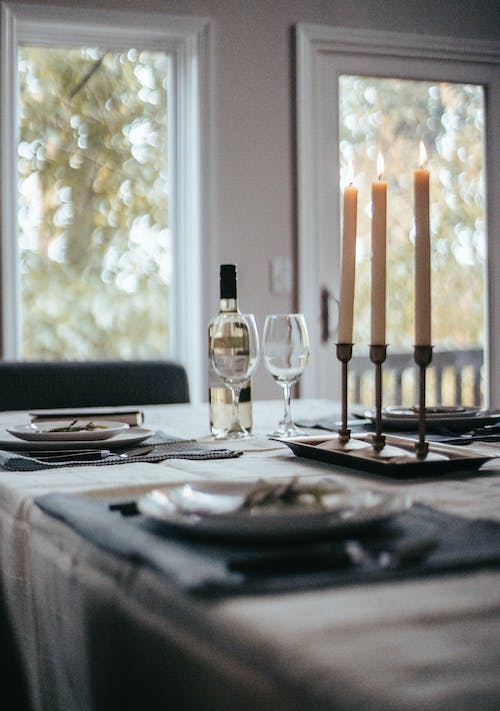alcohol: (206, 262, 255, 440)
